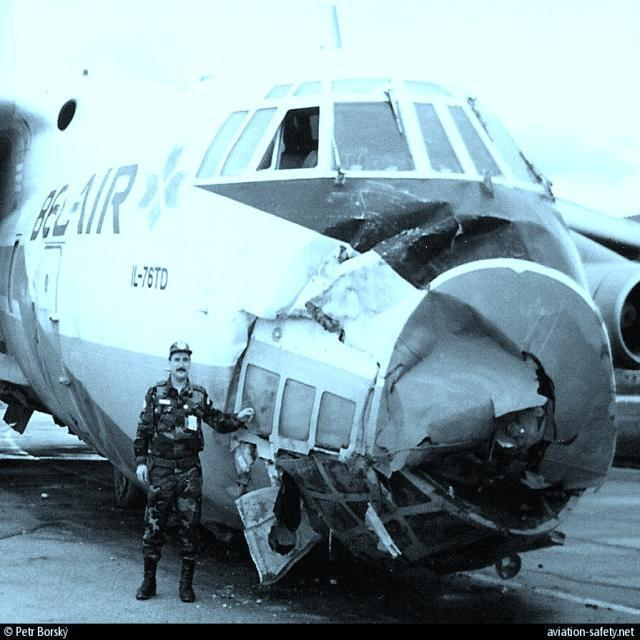dent: (328, 209, 434, 254)
